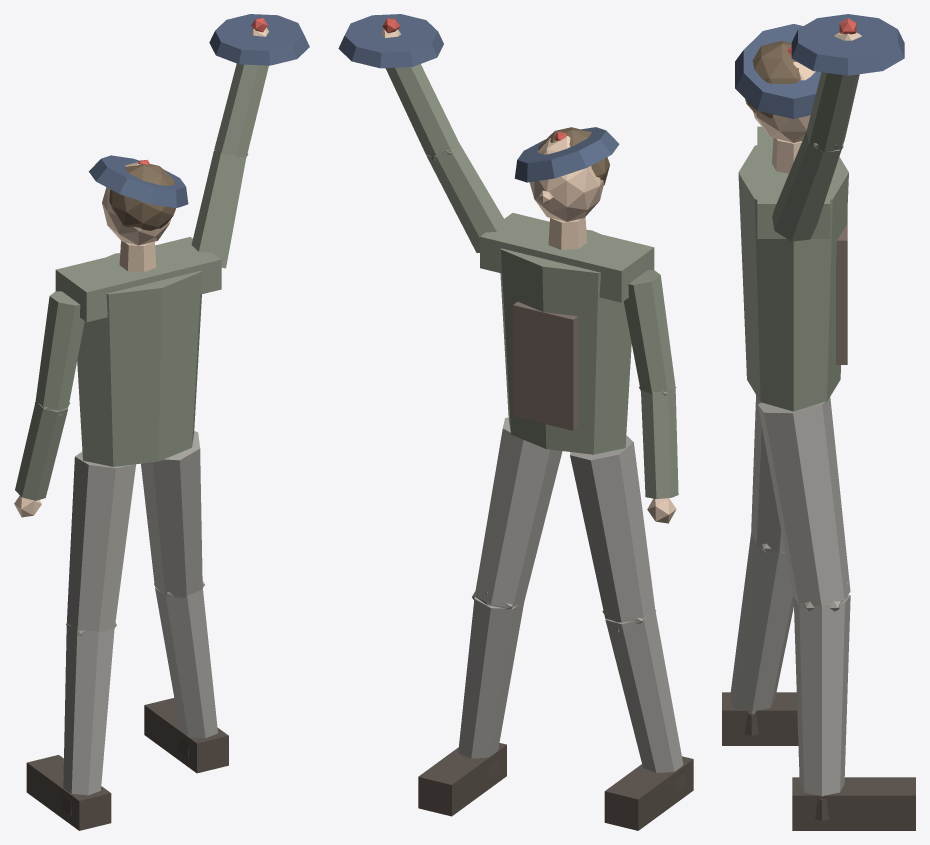
The model's file is townsman_cheering.glb.
3 renders of one model, left to right at view 1: azimuth 30°, elevation 25°; view 2: azimuth 150°, elevation 25°; view 3: azimuth 270°, elevation 25°, orthographic. The views are drawn at different scales.
Visible parts, largest first — view 1: tweed_green, tweed_grey, boot, bonnet_blue, skin, hair; view 2: tweed_green, tweed_grey, boot, waistcoat, bonnet_blue, skin, hair; view 3: tweed_grey, tweed_green, boot, bonnet_blue, skin, hair, waistcoat.
Boxes of the visible parts, <box> form: tweed_green: <box>15,63,268,500</box>; tweed_grey: <box>63,431,217,795</box>; boot: <box>26,698,228,830</box>; bonnet_blue: <box>89,14,309,207</box>; skin: <box>14,27,268,517</box>; hair: <box>109,164,175,230</box>; tweed_green: <box>385,64,678,498</box>; tweed_grey: <box>458,417,683,772</box>; boot: <box>418,743,693,830</box>; waistcoat: <box>513,301,578,430</box>; bonnet_blue: <box>338,14,619,182</box>; skin: <box>381,28,676,523</box>; hair: <box>538,127,609,185</box>; tweed_grey: <box>730,395,850,796</box>; tweed_green: <box>738,72,859,411</box>; boot: <box>722,692,915,830</box>; bonnet_blue: <box>735,14,904,118</box>; skin: <box>753,32,861,173</box>; hair: <box>745,40,800,118</box>; waistcoat: <box>836,211,847,364</box>.
Size of the model in its own units: 0.8883 by 2.03 by 0.4237.
